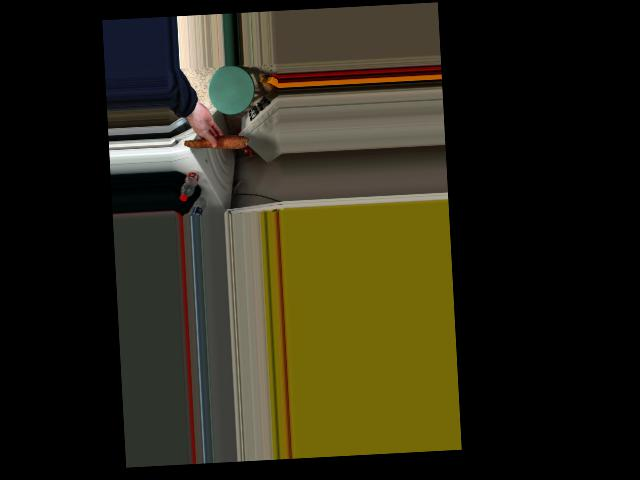sweet_potato: (182, 129, 247, 152)
